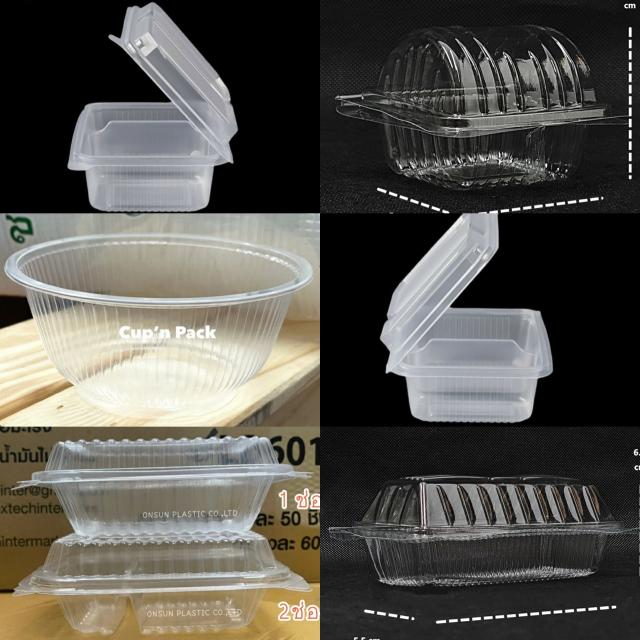Single-Use-Plastic: (5, 234, 311, 416), (337, 25, 620, 188), (380, 214, 552, 422), (68, 2, 238, 211), (329, 475, 632, 585), (15, 531, 310, 634), (16, 436, 310, 538)
